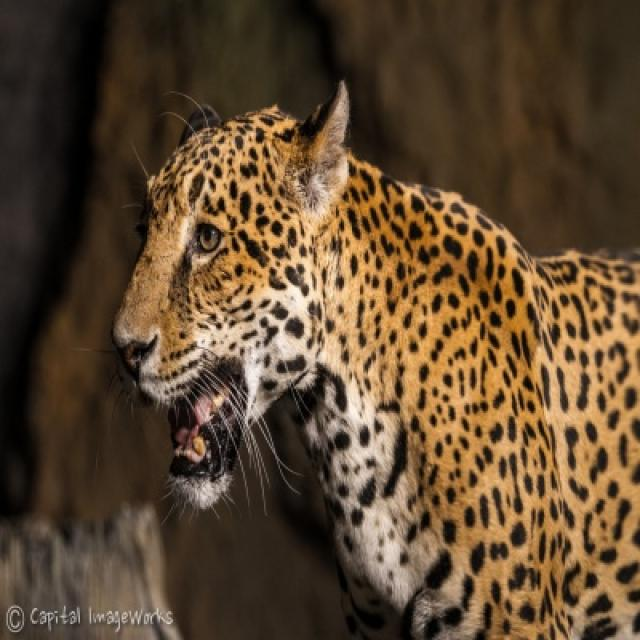Jaguar: (110, 83, 638, 638)
